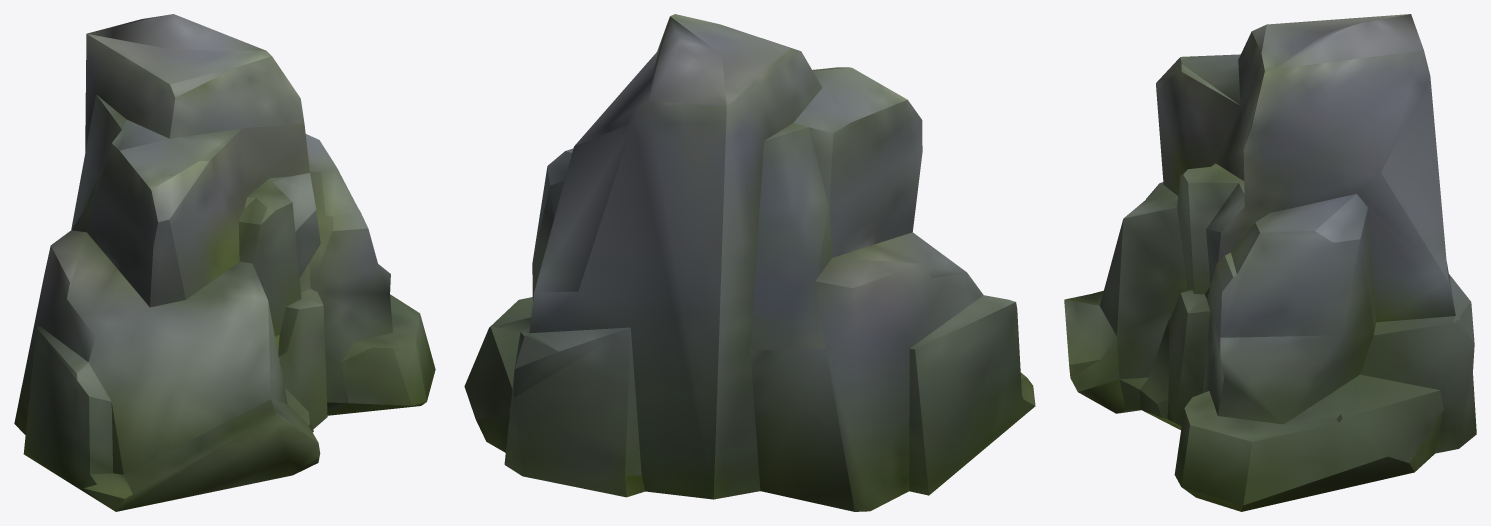
The model's file is rock-4.glb.
The picture shows the model from 3 angles, left to right: view 1: azimuth 30°, elevation 25°; view 2: azimuth 150°, elevation 25°; view 3: azimuth 270°, elevation 25°; orthographic projection. The views are drawn at different scales.
Parts seen in each view (by area): view 1: Rock_Big_1; view 2: Rock_Big_1; view 3: Rock_Big_1.
Part boxes in pixels (x1=…): Rock_Big_1: x1=14, y1=14, x2=435, y2=511; Rock_Big_1: x1=464, y1=14, x2=1035, y2=511; Rock_Big_1: x1=1064, y1=14, x2=1476, y2=511.
Size of the model in its own units: 1.06 by 0.9379 by 0.8994.
Materials: 1 (1 with a texture image).
